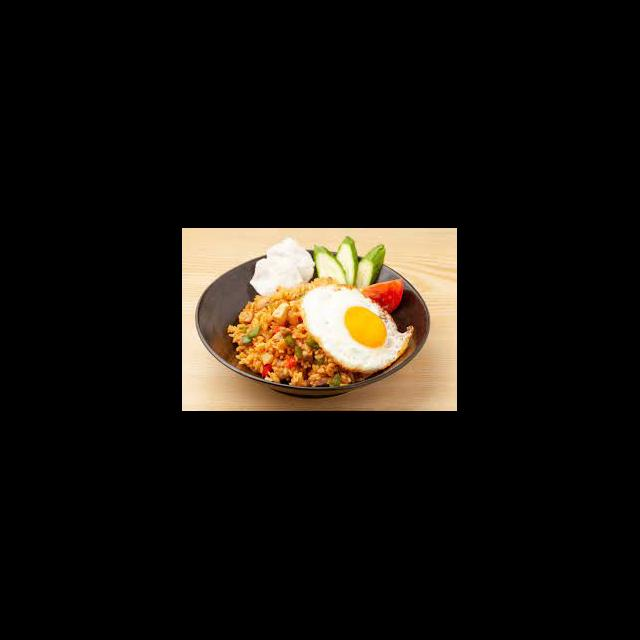food_waste: (258, 294, 375, 370)
